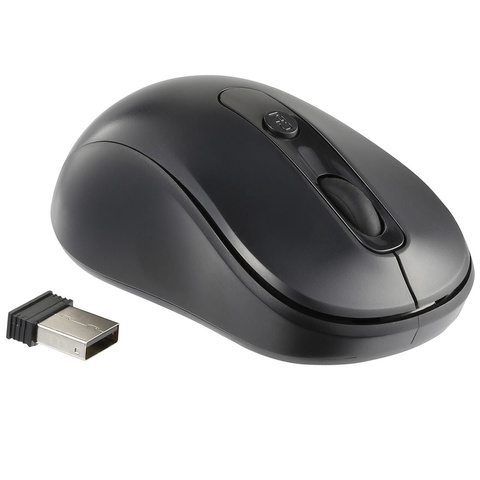Mouse: (41, 66, 480, 375)
